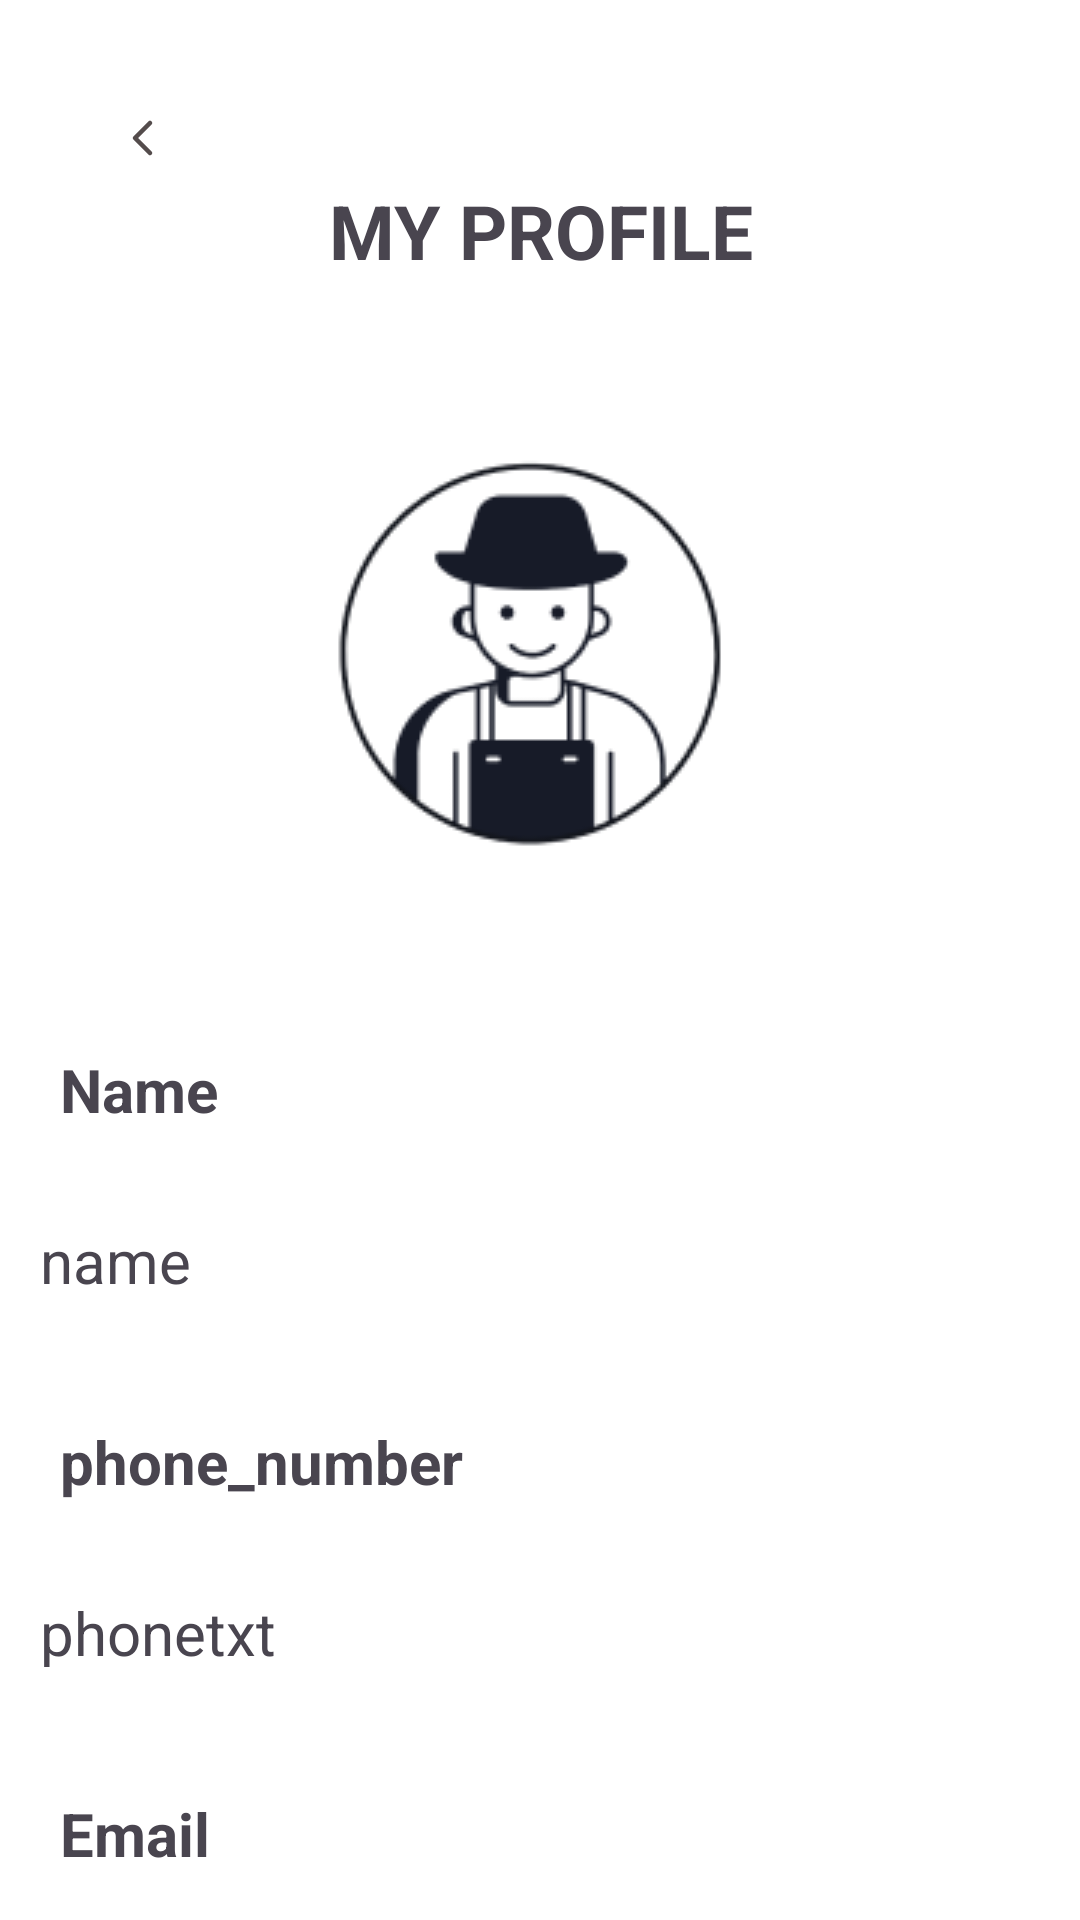

Screen size 1080 x 1920. Icon name, then its box in pixels as [x1=x1, y1=y1, x2=x2, y2=y2]:
leftdirect: [x1=133, y1=120, x2=152, y2=156]
